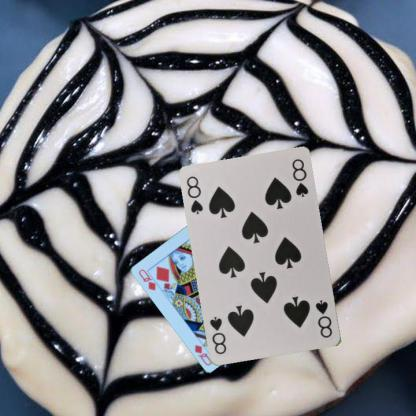8s: (313, 298, 334, 340), (184, 173, 204, 216)
Qd: (136, 266, 162, 292)
